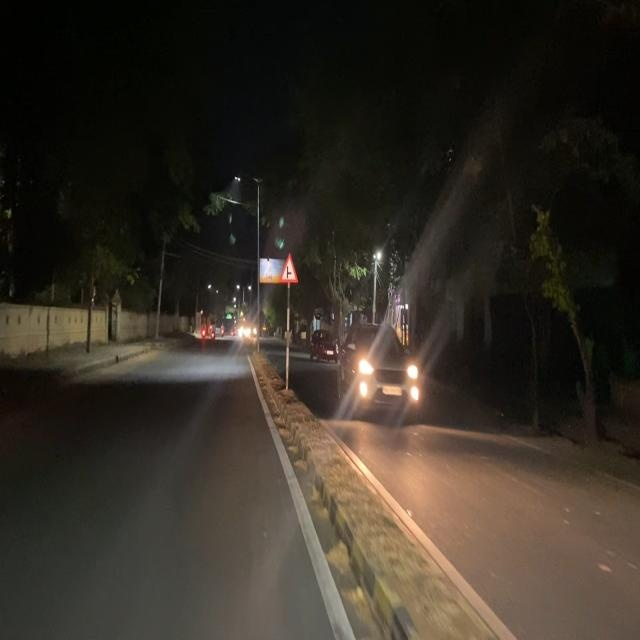bien_nguy_hiem: (279, 252, 298, 284)
